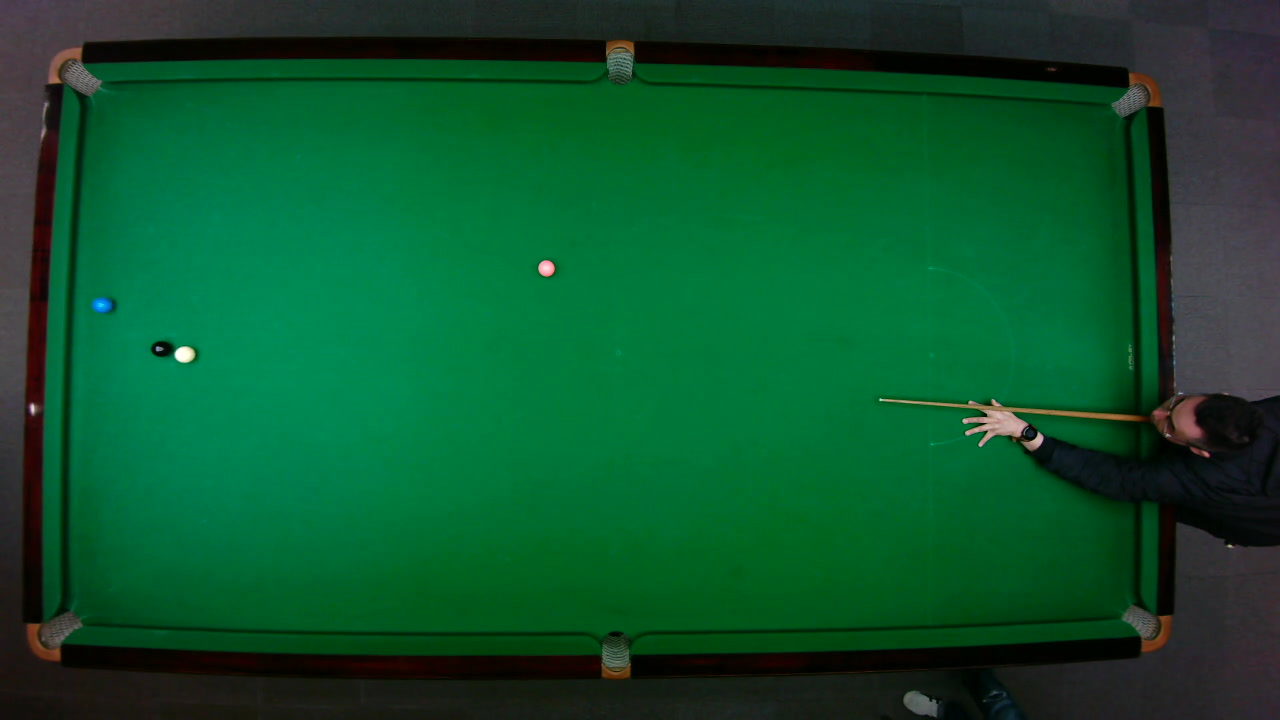bag: (24, 609, 83, 661), (45, 46, 102, 96), (1119, 603, 1171, 652), (1108, 71, 1161, 117), (600, 629, 629, 680), (605, 38, 633, 85)
black: (149, 339, 170, 357)
blue: (91, 295, 113, 313)
cue: (877, 397, 1155, 423)
pink: (536, 258, 555, 277)
white: (173, 344, 196, 363)
zone: (925, 265, 1014, 451)
